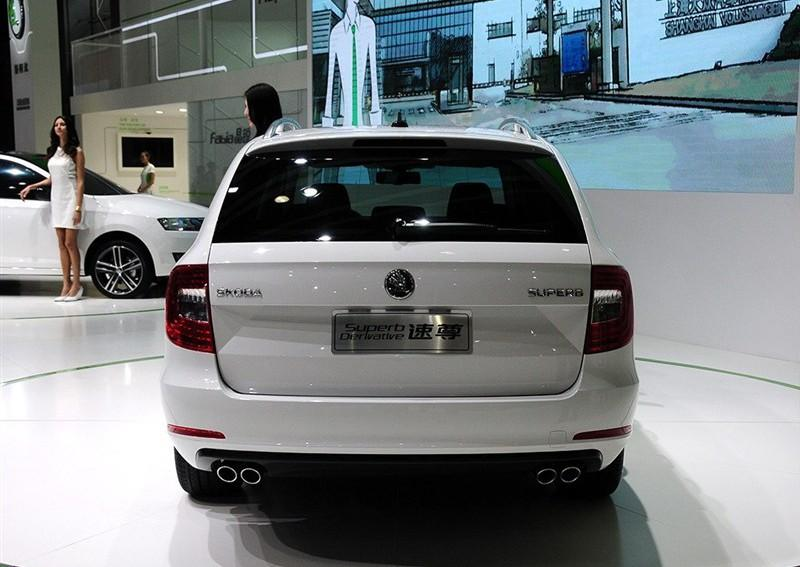Wagon: (162, 118, 640, 502)
